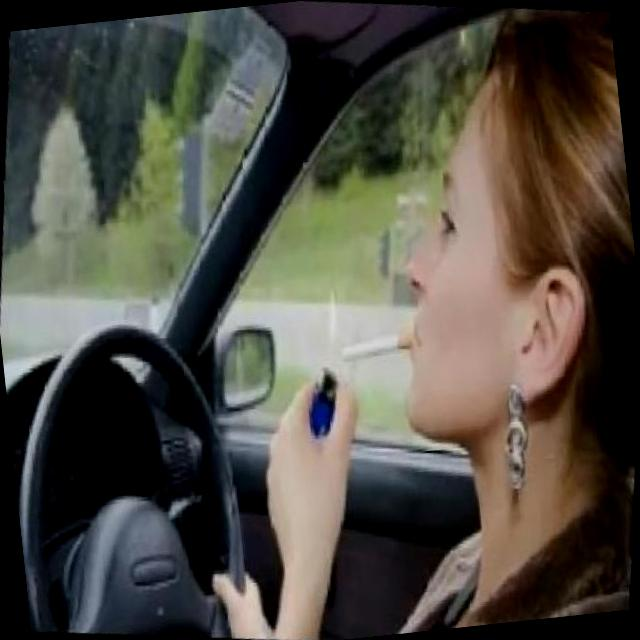smoke: (335, 318, 419, 372)
